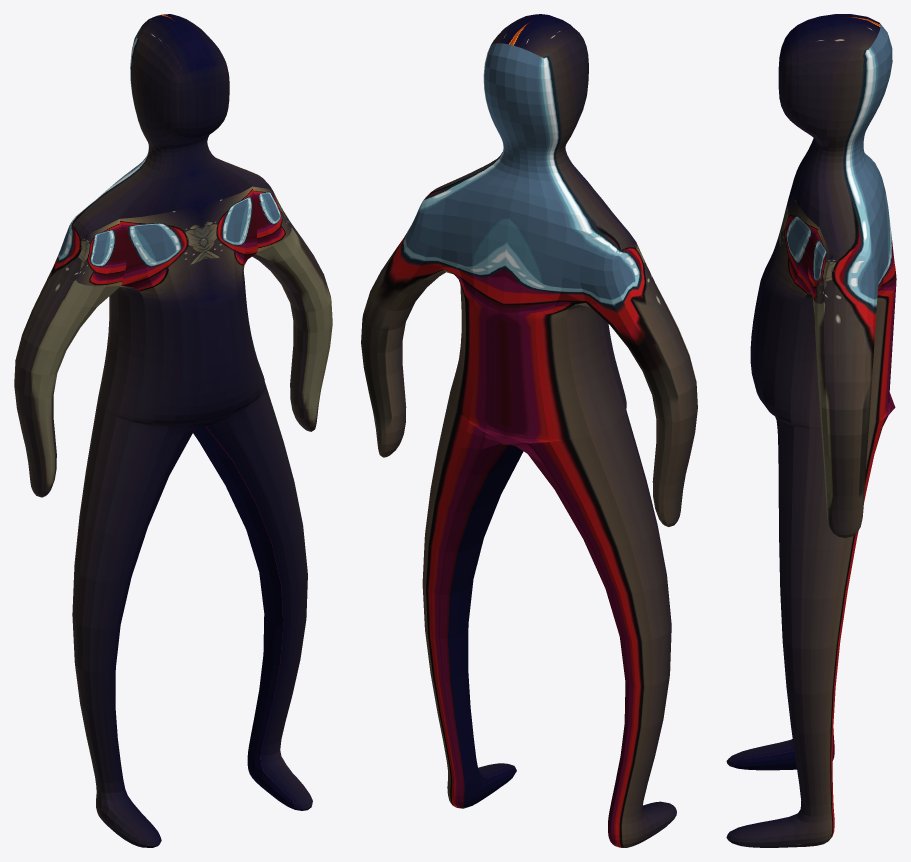
Rendered from persono2.obj.
3 views of the same model, side by side, from view 1: azimuth 30°, elevation 25°; view 2: azimuth 150°, elevation 25°; view 3: azimuth 270°, elevation 25° (orthographic). The views are drawn at different scales.
Parts seen in each view (by area): view 1: Cube; view 2: Cube; view 3: Cube.
Part boxes in pixels (left/top/right/bottom): Cube: left=14, top=14, right=332, bottom=847; Cube: left=361, top=14, right=697, bottom=847; Cube: left=726, top=14, right=896, bottom=847.
Size of the model in its own units: 0.6134 by 1.46 by 0.2845.
Materials: 1 (1 with a texture image).
